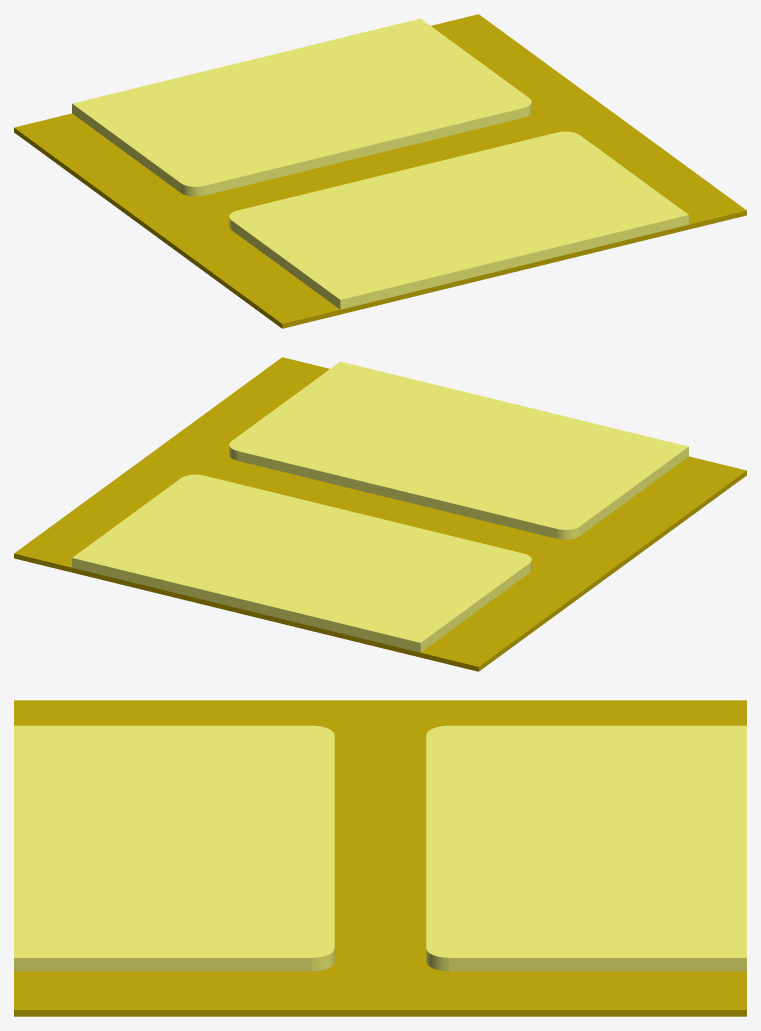
3 views of the same model, one above another, from view 1: azimuth 30°, elevation 25°; view 2: azimuth 150°, elevation 25°; view 3: azimuth 270°, elevation 25° (orthographic). The views are drawn at different scales.
Visible parts, largest first — view 1: 4; view 2: 4; view 3: 4.
Boxes of the visible parts, box(x1,y1,x2,y2) form: 4: box(14, 14, 746, 328); 4: box(14, 357, 746, 671); 4: box(14, 700, 746, 1016).
Size of the model in its own units: 5000 by 151 by 5000.
